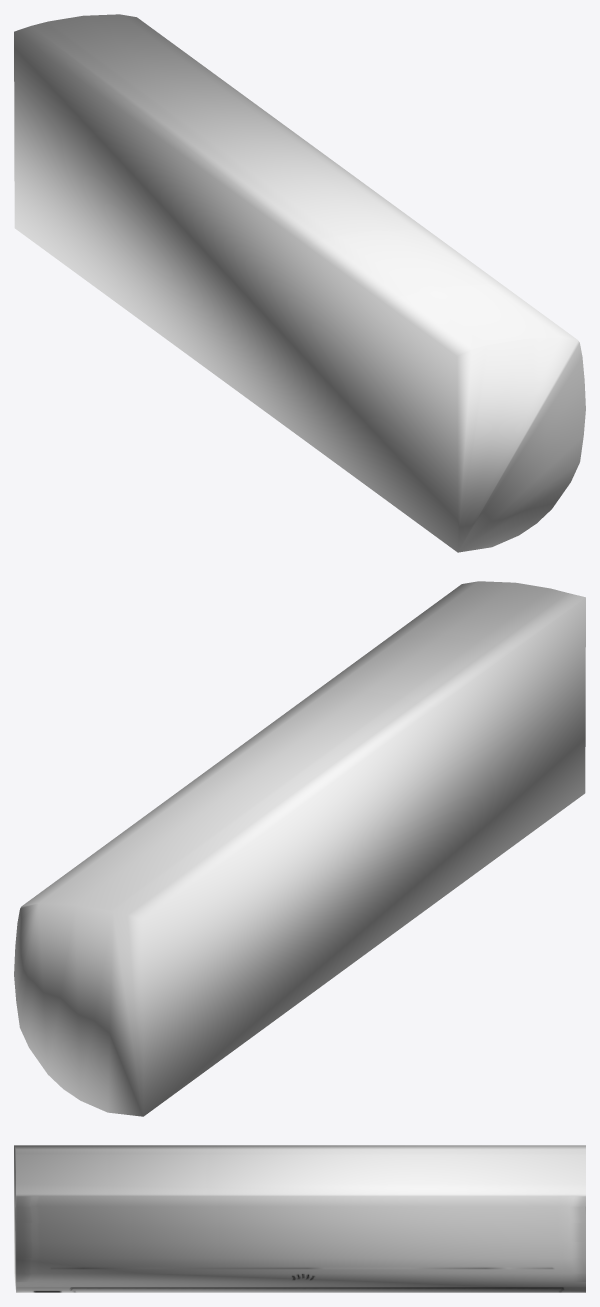
Rendered from arcordicionad.fbx.
3 renders of one model, top to bottom at view 1: azimuth 30°, elevation 25°; view 2: azimuth 150°, elevation 25°; view 3: azimuth 270°, elevation 25°, orthographic. The views are drawn at different scales.
Parts seen in each view (by area): view 1: Plane; view 2: Plane; view 3: Plane.
Part boxes in pixels (<box>): Plane: <box>14,14,585,552</box>; Plane: <box>14,581,585,1116</box>; Plane: <box>14,1145,585,1292</box>.
Bounding box in the file's own units: 0.128 × 0.1903 × 0.7524.
1 material, 1 textured.
